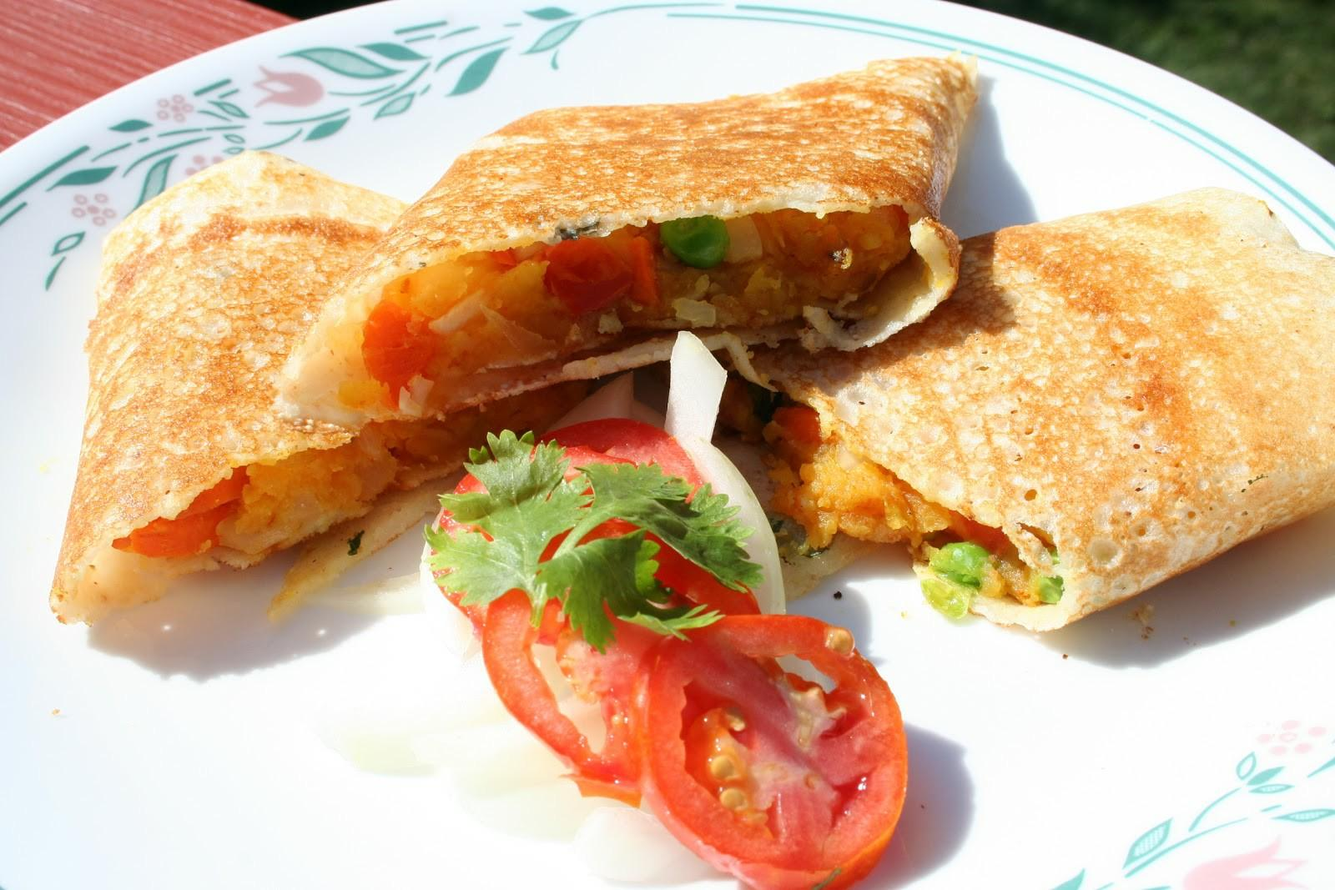Dosa: (279, 56, 979, 436), (51, 150, 585, 625), (770, 190, 1335, 633)
